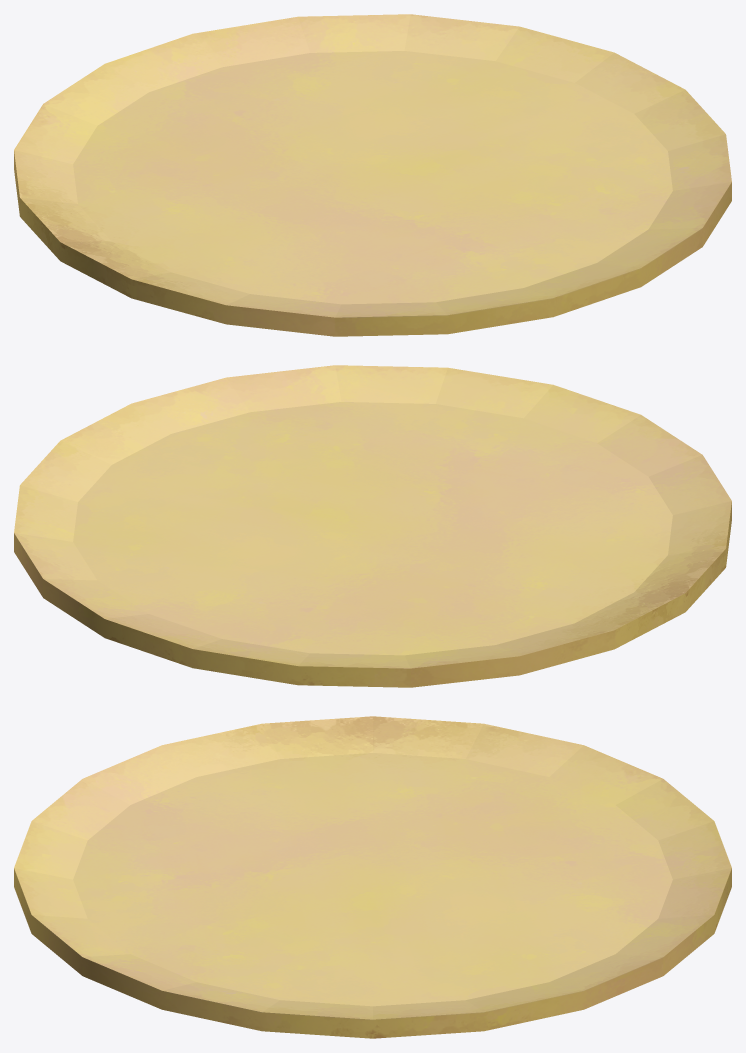
Rendered from 20_Lv1 Plate2.fbx.
3 renders of one model, top to bottom at view 1: azimuth 30°, elevation 25°; view 2: azimuth 150°, elevation 25°; view 3: azimuth 270°, elevation 25°, orthographic.
Visible parts, largest first — view 1: Plate; view 2: Plate; view 3: Plate.
Part boxes in pixels (box(x1,y1,x2,y2)): Plate: box(14, 14, 731, 336); Plate: box(14, 365, 731, 687); Plate: box(14, 716, 731, 1038).
Bounding box in the file's own units: 949 × 64.8 × 949.
